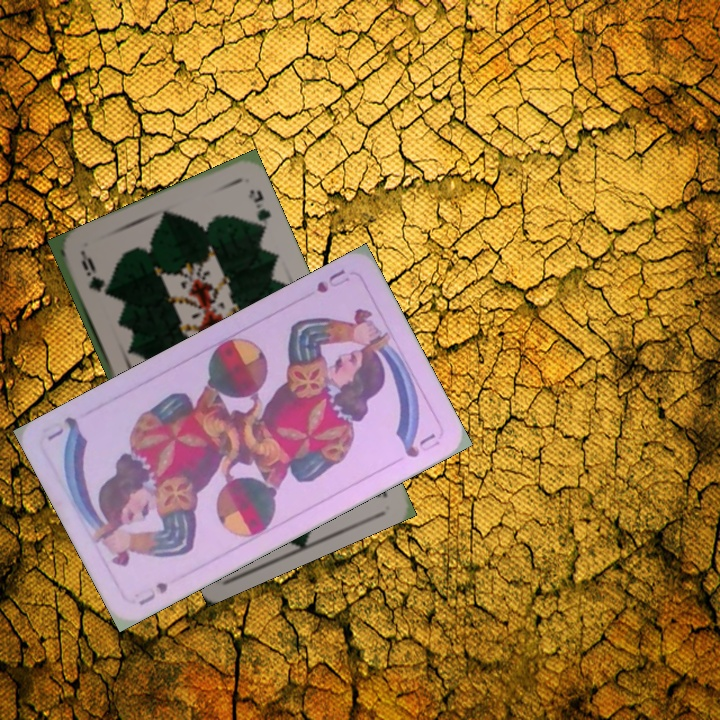G9: (77, 254, 105, 295)
SU: (312, 264, 352, 296), (134, 578, 173, 608)
